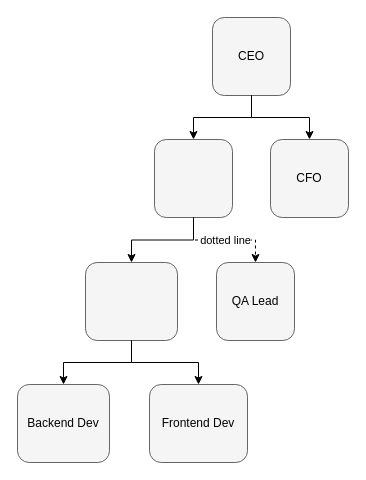
This 366x480 diagram has some shape labels left out. The centre of each missing label's shape, as x and y in pixels:
"CTO" goes at point (193, 178).
"Eng Manager" goes at point (131, 301).
